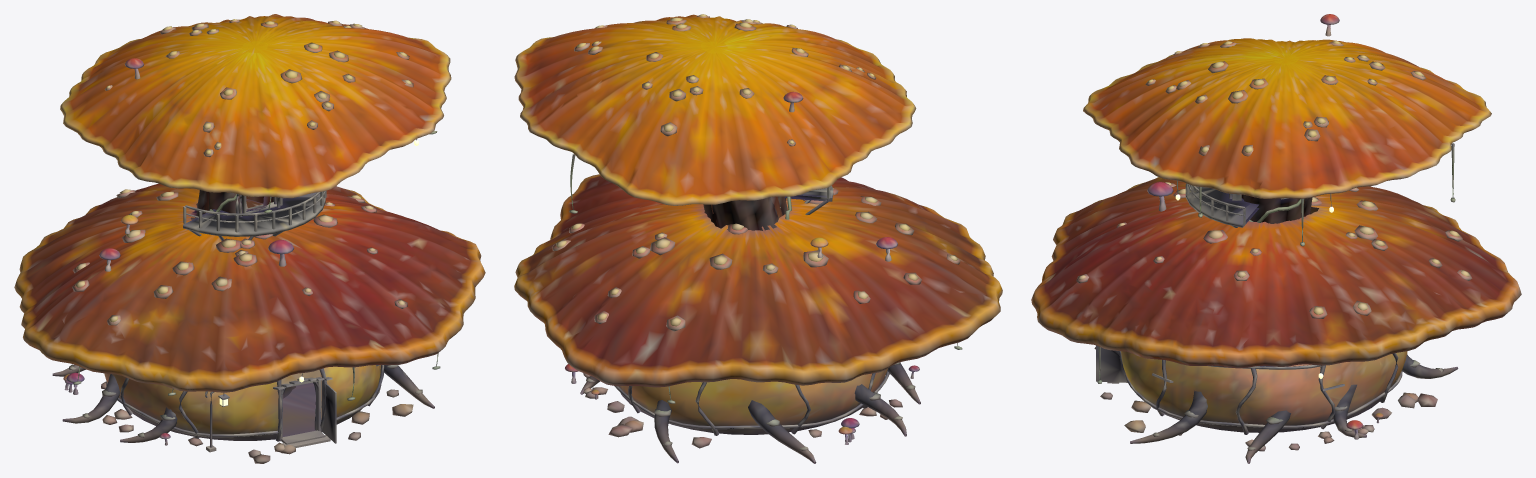
The model's file is ev_kulube.glb.
3 renders of one model, left to right at view 1: azimuth 30°, elevation 25°; view 2: azimuth 150°, elevation 25°; view 3: azimuth 270°, elevation 25°, orthographic. The views are drawn at different scales.
Parts seen in each view (by area): view 1: ev_kulube_LOD0; view 2: ev_kulube_LOD0; view 3: ev_kulube_LOD0.
Boxes of the visible parts, x1=… form: ev_kulube_LOD0: x1=14, y1=14, x2=485, y2=463; ev_kulube_LOD0: x1=514, y1=14, x2=1002, y2=463; ev_kulube_LOD0: x1=1031, y1=14, x2=1521, y2=463.
Size of what is drawn, in the model's own units: 29.88 by 22.26 by 29.33.
